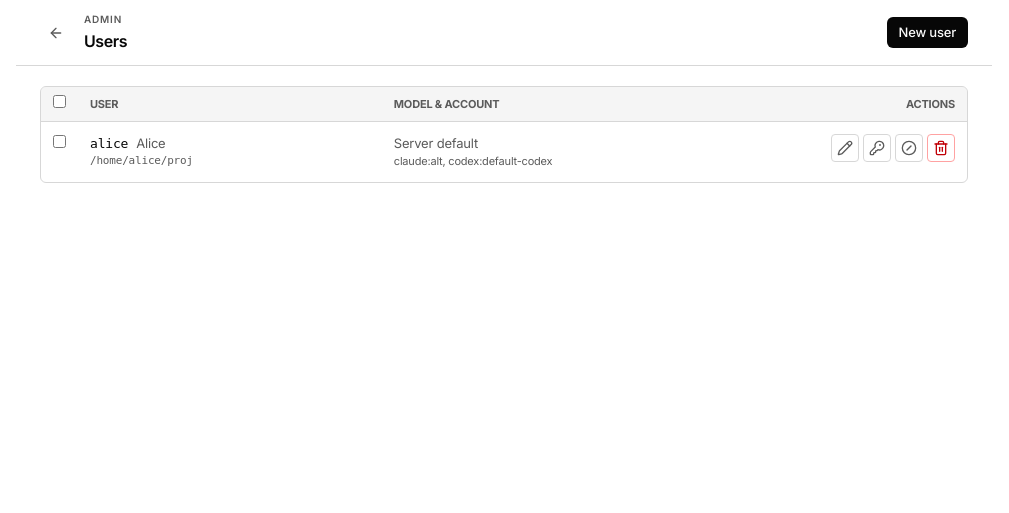
Test: AdminUsers provider bindings › checks the granted accounts per CLI type in the edit form
The width and height of the screenshot is (1009, 513).
Click the button named "Edit". click: point(845, 148)
box: 831,134 -> 859,162
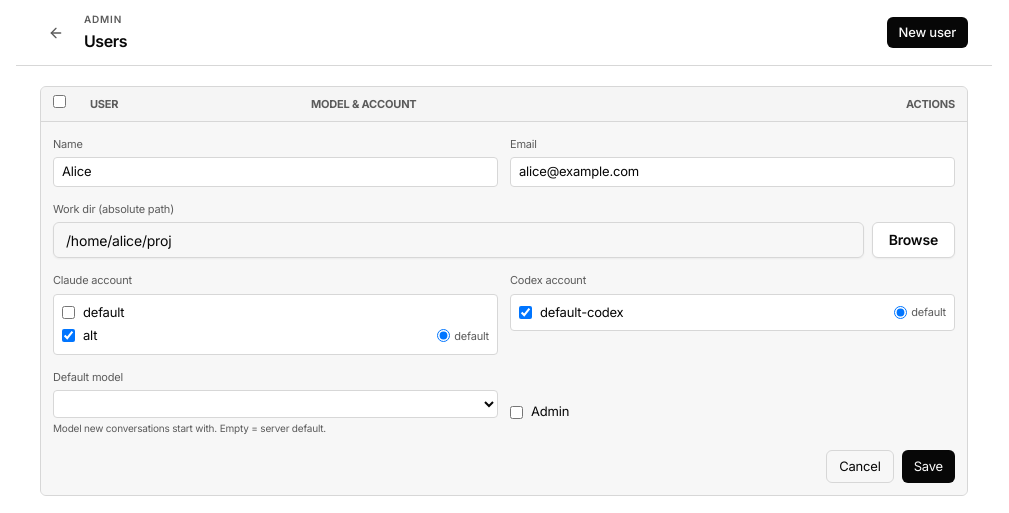
Check: the checkbox with test id "edit-account-claude-alt" is checked, box 62,329 -> 75,342
Check: the checkbox with test id "edit-account-claude-default" is not checked, box 62,306 -> 75,319
Check: the checkbox with test id "edit-account-codex-default-codex" is checked, box 519,306 -> 532,319
